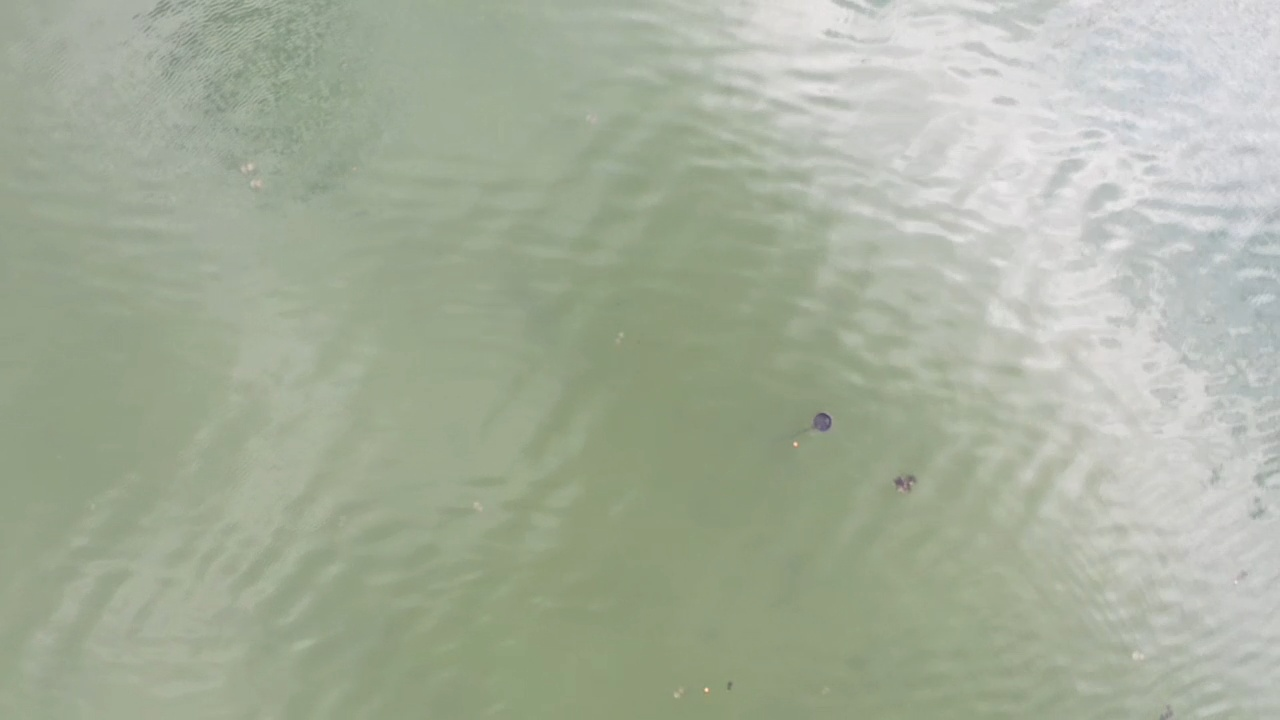meduse: (1130, 649, 1147, 663), (240, 163, 256, 177), (360, 457, 373, 473), (249, 178, 266, 189), (624, 129, 641, 139), (472, 501, 484, 513), (819, 687, 834, 696), (614, 333, 626, 344), (673, 688, 684, 699)
